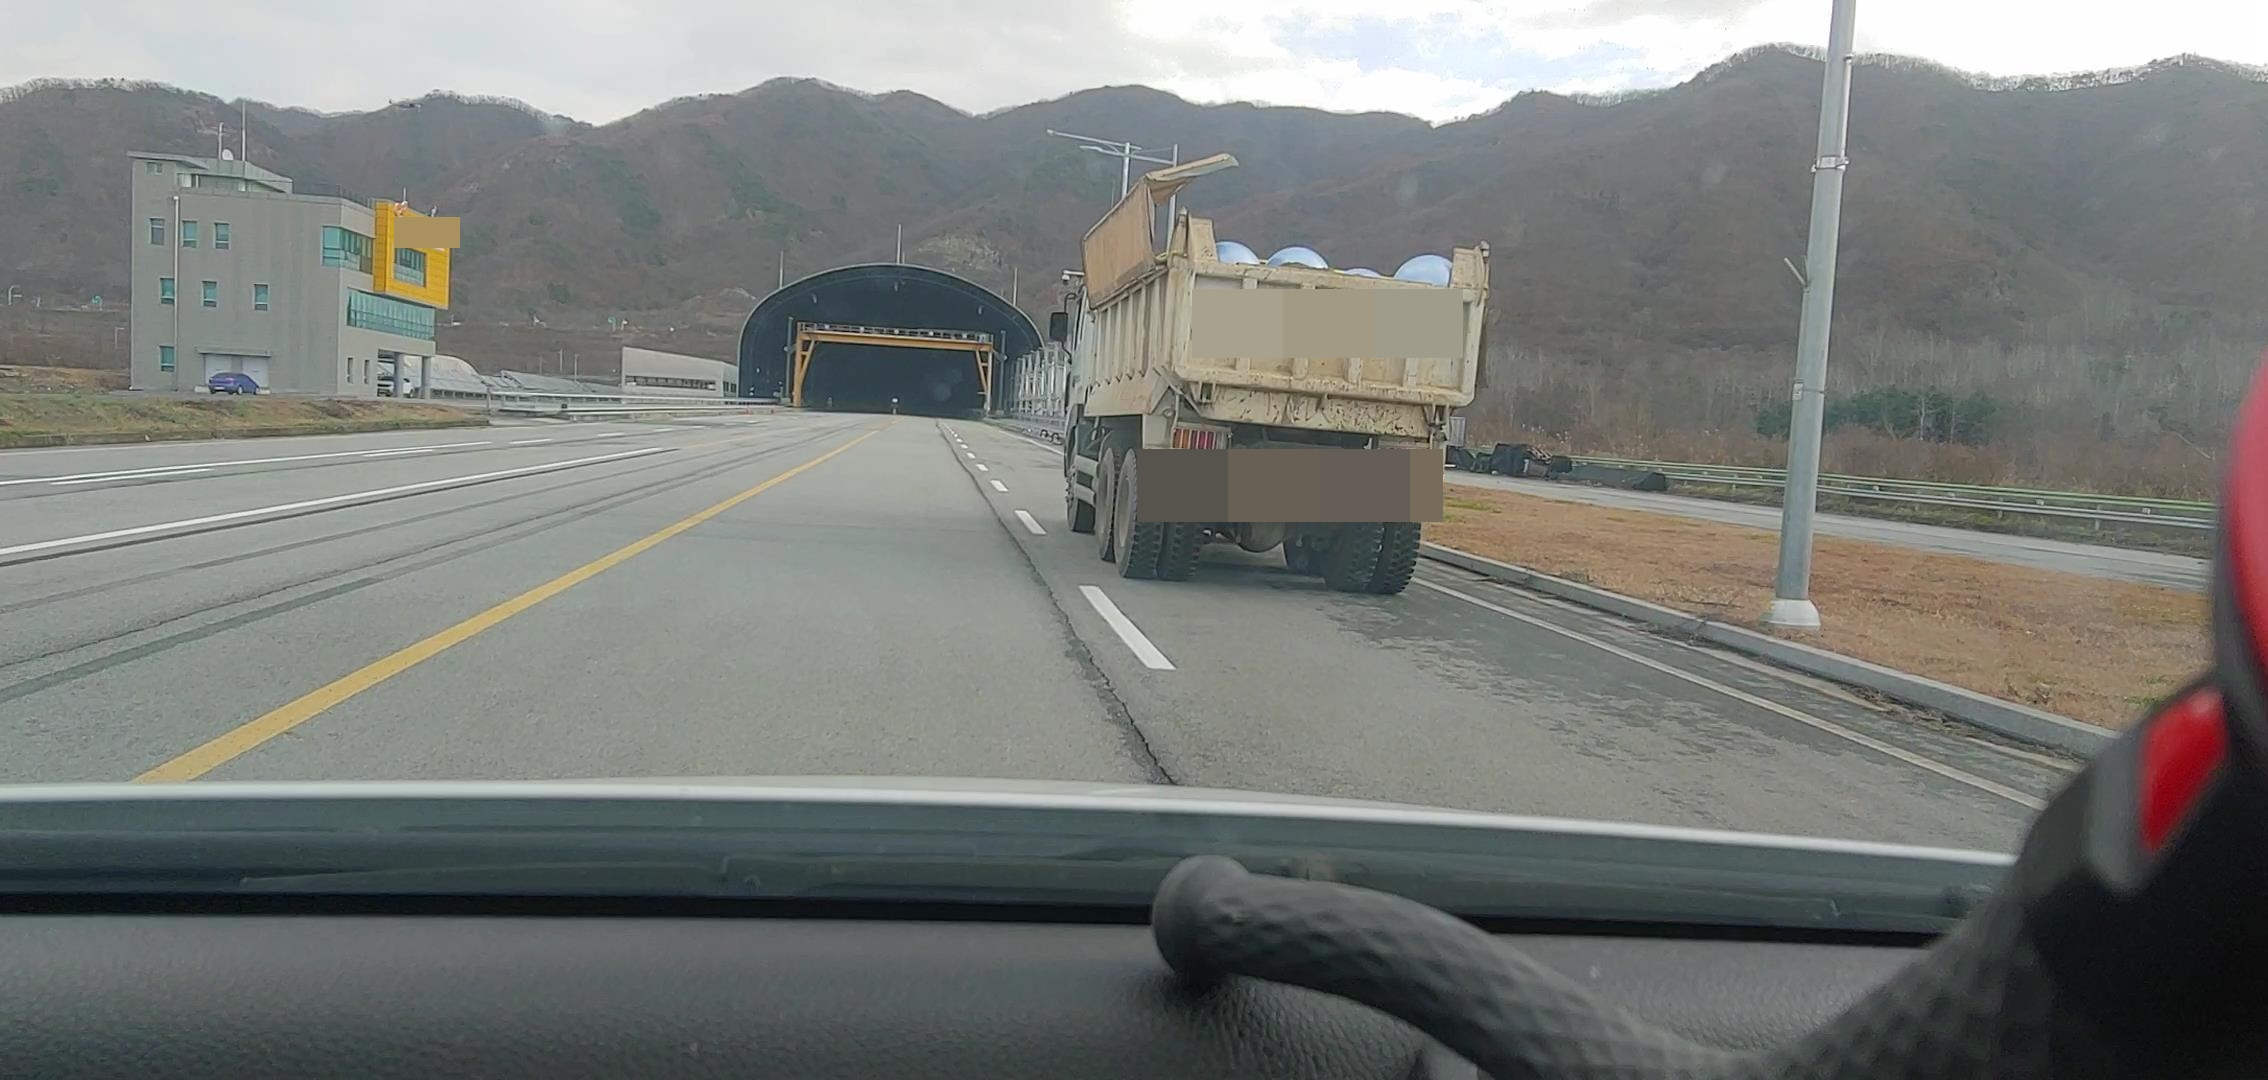불법차량: (1049, 152, 1491, 597)
